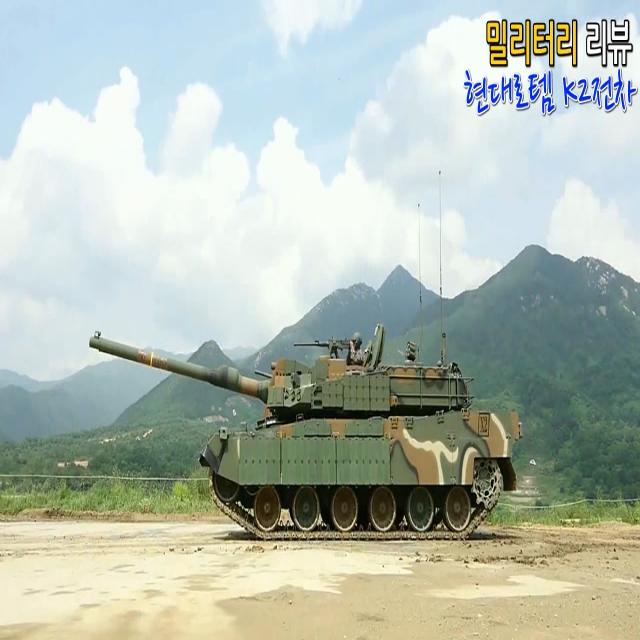korea tank: (89, 324, 525, 540)
